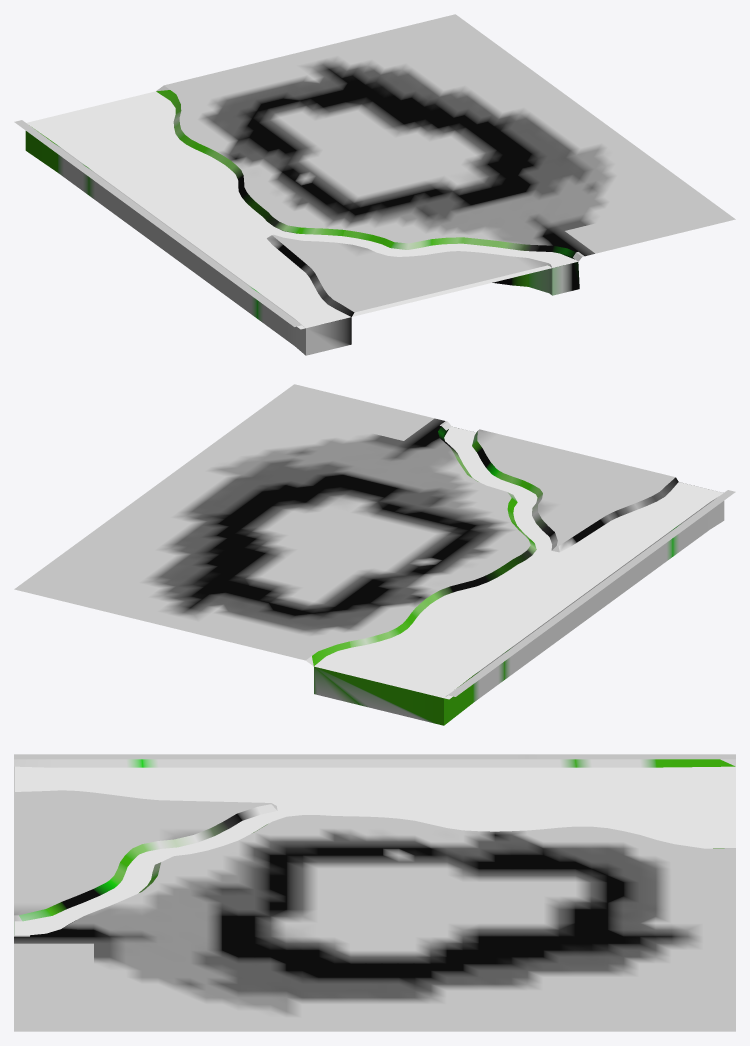
Rendered from block_outskirts_a.fbx.
The picture shows the model from 3 angles, top to bottom: view 1: azimuth 30°, elevation 25°; view 2: azimuth 150°, elevation 25°; view 3: azimuth 270°, elevation 25°; orthographic projection. The views are drawn at different scales.
Visible parts, largest first — view 1: Cube.195; view 2: Cube.195; view 3: Cube.195.
Boxes of the visible parts, <box> form: Cube.195: <box>14,14,735,355</box>; Cube.195: <box>14,384,735,725</box>; Cube.195: <box>14,754,735,1031</box>.
Bounding box in the file's own units: 105021 × 7156 × 115508.
